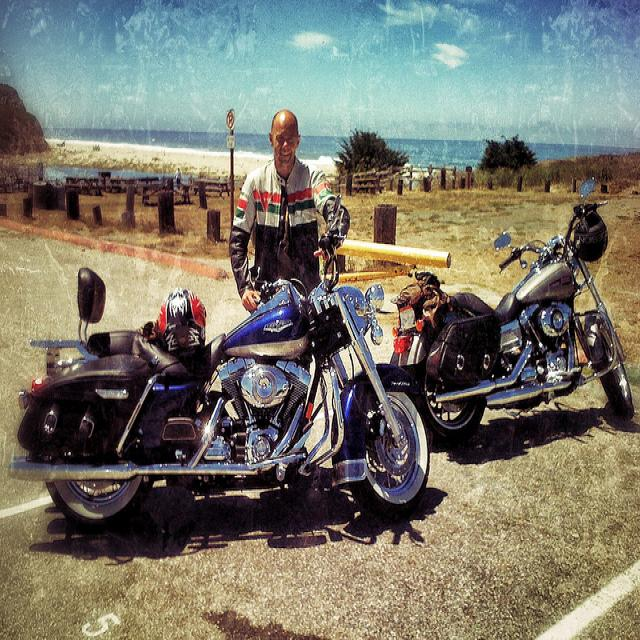motor: (3, 201, 435, 524), (395, 178, 633, 446)
